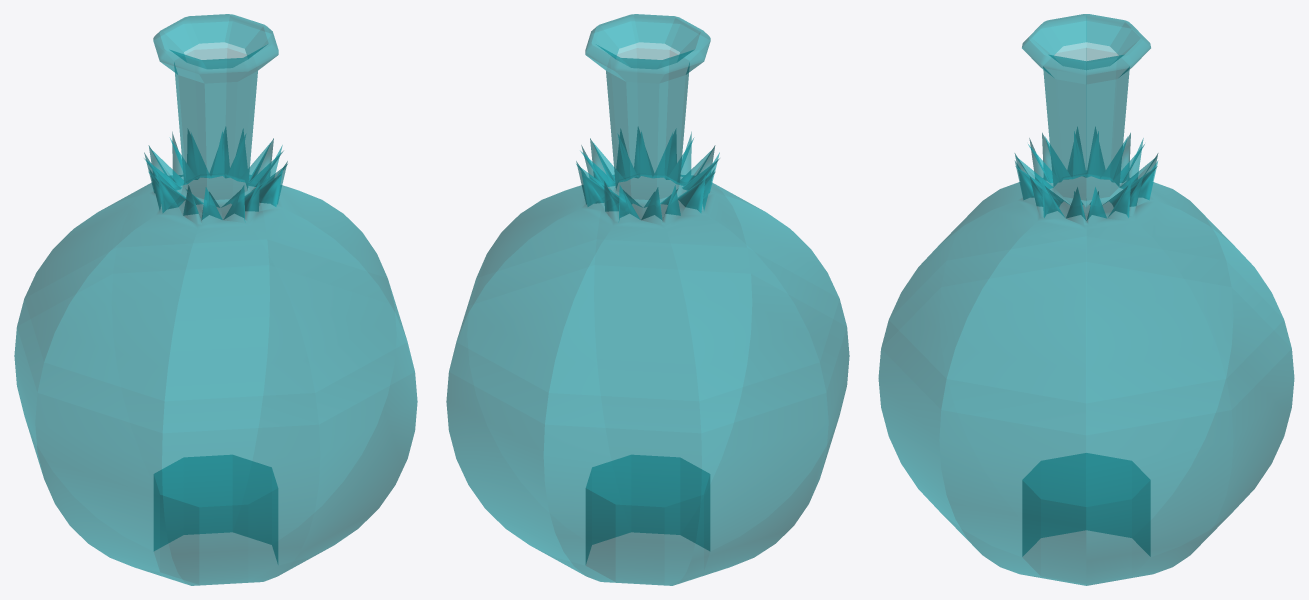
Rendered from vase.fbx.
3 renders of one model, left to right at view 1: azimuth 30°, elevation 25°; view 2: azimuth 150°, elevation 25°; view 3: azimuth 270°, elevation 25°, orthographic.
Visible parts, largest first — view 1: pSphere1; view 2: pSphere1; view 3: pSphere1.
Part boxes in pixels (x1,y1,x2,y2): pSphere1: [14, 14, 417, 585]; pSphere1: [446, 14, 849, 585]; pSphere1: [878, 14, 1294, 585].
Bounding box in the file's own units: 6.82 × 9.39 × 6.82.
